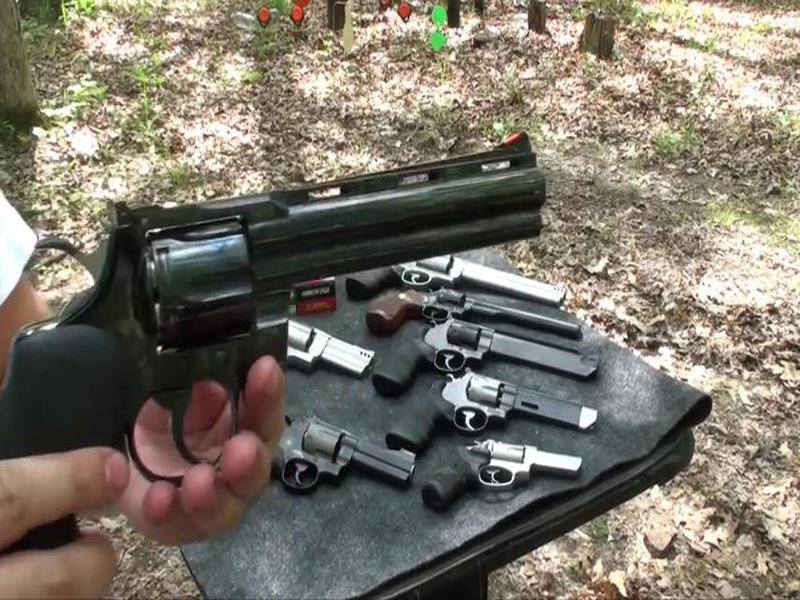Revolver: (23, 133, 540, 495)
